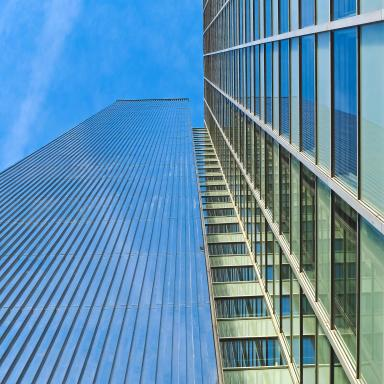glass_panel: (332, 189, 358, 365), (362, 23, 384, 230), (333, 190, 358, 370), (333, 28, 358, 194), (359, 219, 384, 381), (316, 181, 332, 327), (299, 35, 315, 160), (299, 168, 316, 270), (280, 147, 291, 235), (280, 39, 288, 142), (270, 41, 278, 131), (252, 44, 261, 120), (237, 115, 246, 178), (238, 47, 246, 108), (332, 0, 357, 19), (224, 105, 233, 148), (225, 50, 233, 97), (241, 0, 249, 42), (315, 0, 328, 25), (255, 0, 263, 40), (267, 0, 275, 37), (215, 52, 223, 88)
